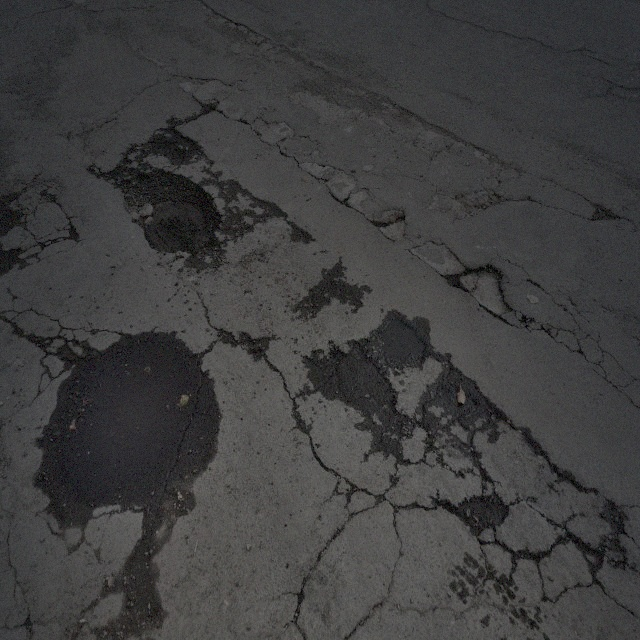pothole: (127, 161, 222, 265), (376, 310, 437, 364)
